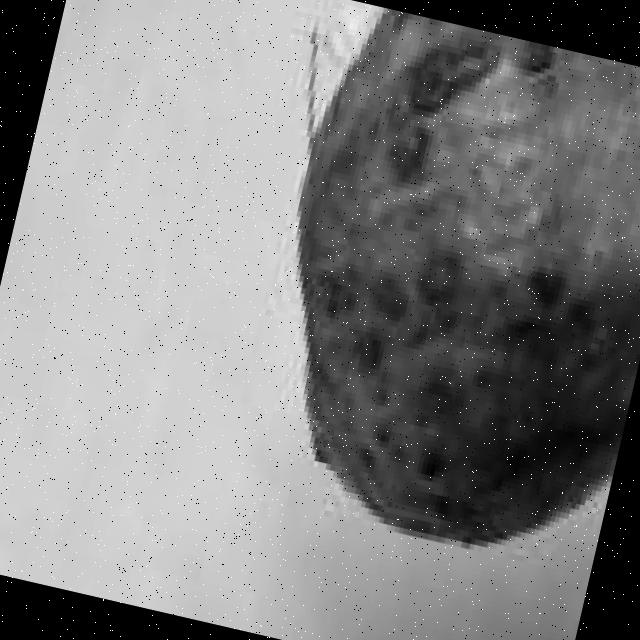Bad_Guava 0 day: (298, 8, 640, 542)
